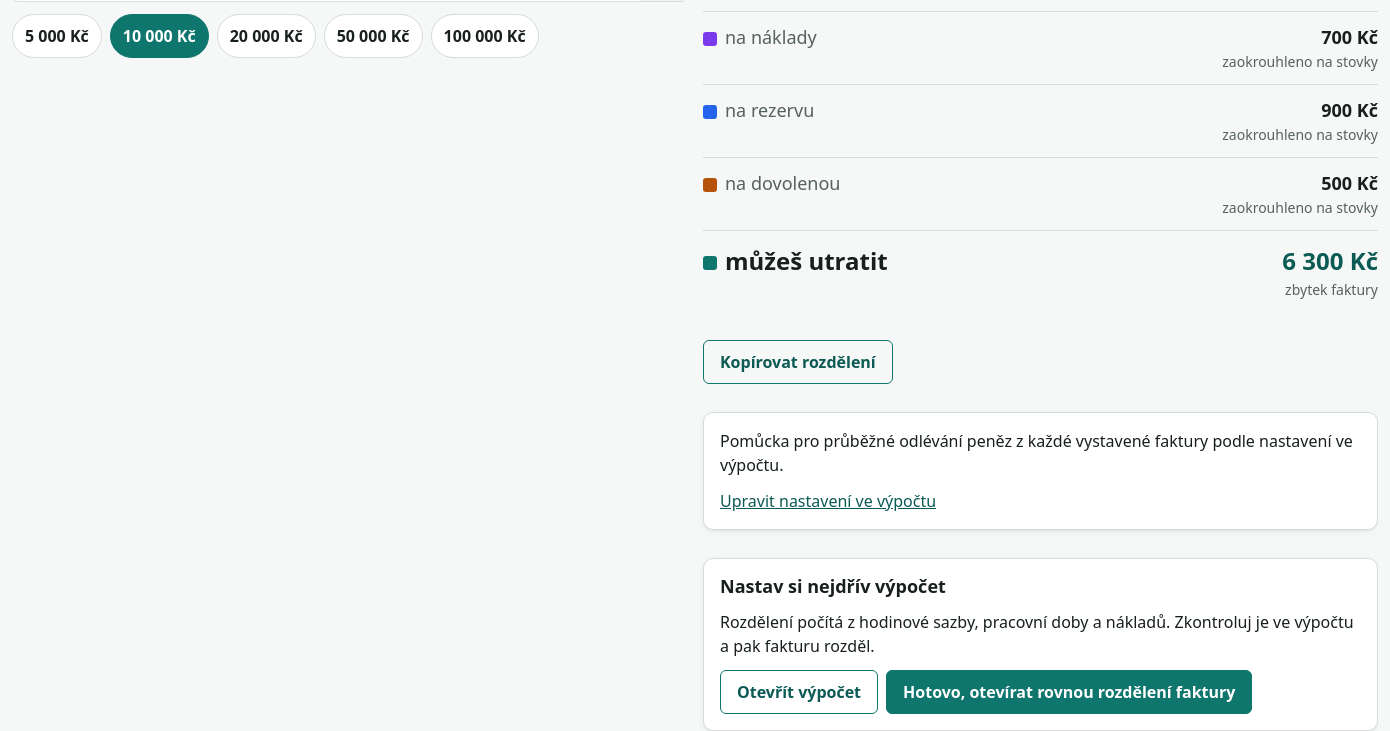
Test: SplitScreen › completes setup from the first-run card and hides the card afterwards
(page scrolled)
Step 1. Click the button "Hotovo, otevírat rovnou rozdělení faktury" → (1069, 692), box [886, 670, 1252, 714]
(page scrolled)
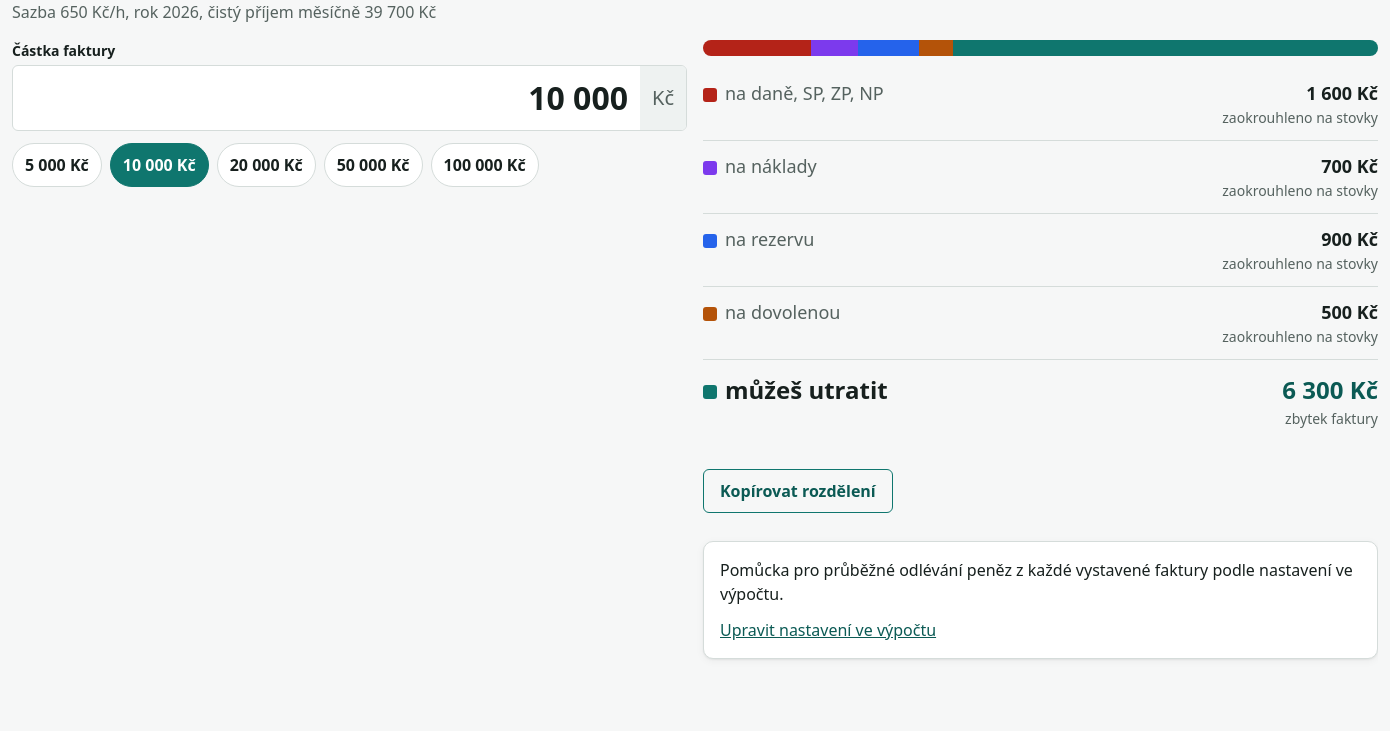
Now the heading "Nastav si nejdřív výpočet" is gone
